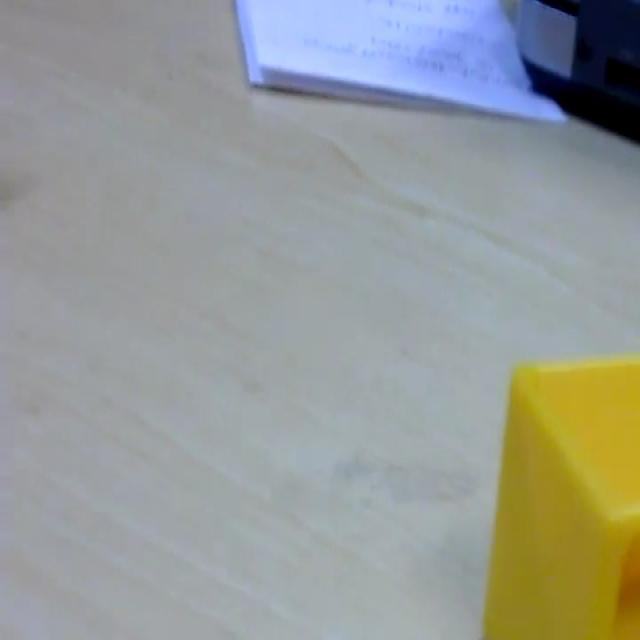yellow_block: (481, 353, 638, 636)
